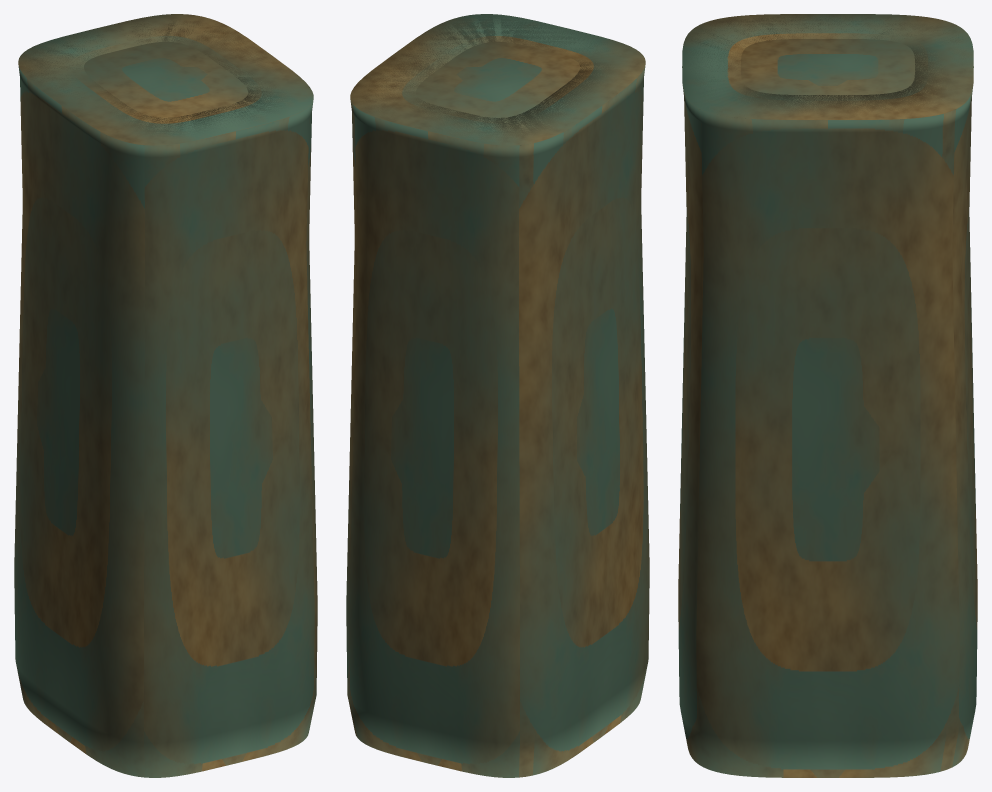
The model's file is Small hanging bell.001__n4.glb.
3 renders of one model, left to right at view 1: azimuth 30°, elevation 25°; view 2: azimuth 150°, elevation 25°; view 3: azimuth 270°, elevation 25°, orthographic. The views are drawn at different scales.
Visible parts, largest first — view 1: Small hanging bell.001; view 2: Small hanging bell.001; view 3: Small hanging bell.001.
Boxes of the visible parts, left/top/right/bottom form: Small hanging bell.001: left=14, top=14, right=317, bottom=777; Small hanging bell.001: left=346, top=14, right=649, bottom=777; Small hanging bell.001: left=678, top=14, right=977, bottom=777.
Size of the model in its own units: 0.2248 by 0.635 by 0.2614.
Materials: 1 (1 with a texture image).
